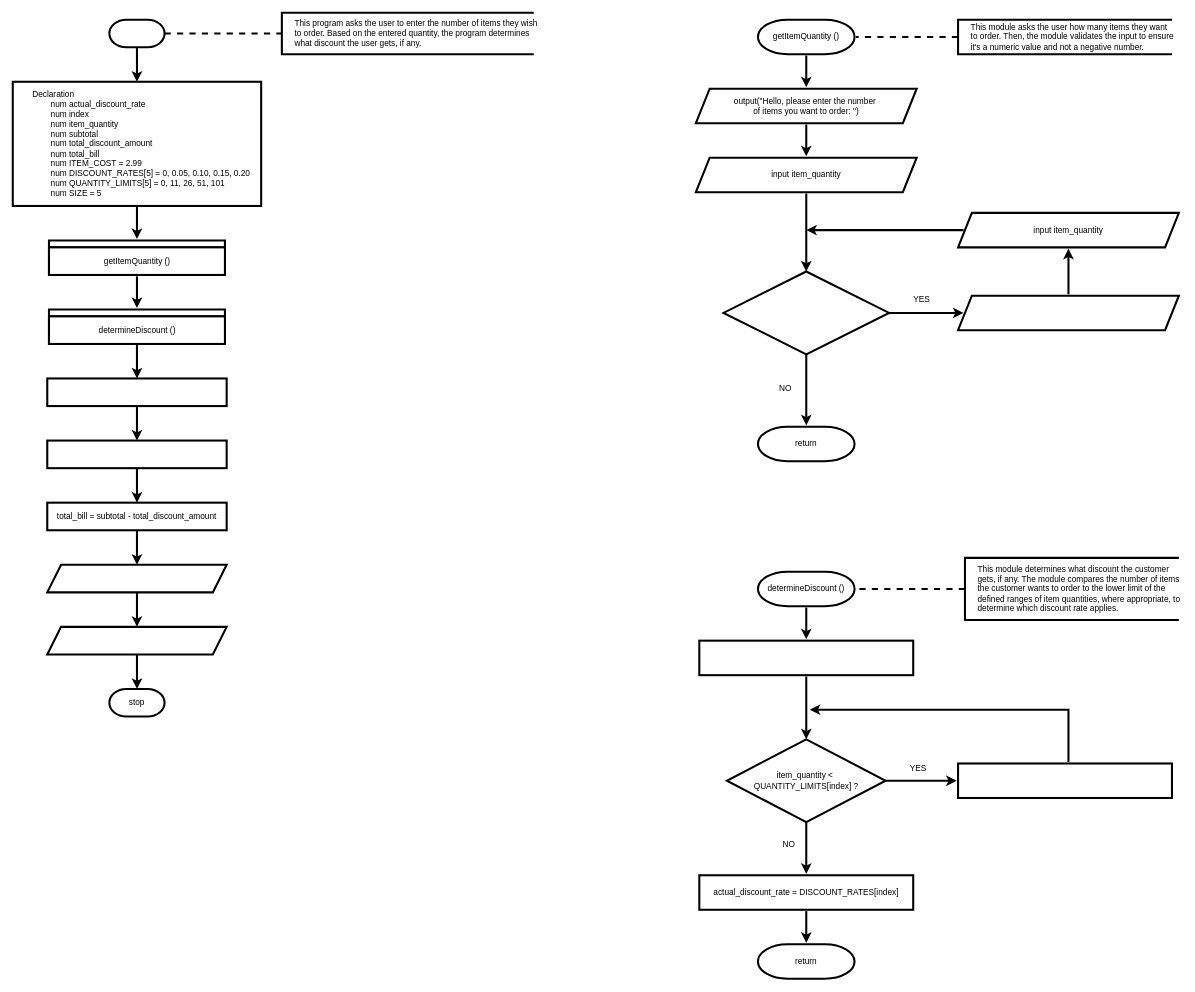
The diagram is 1195 pixels wide and 992 high, and some of its shapes have lost their labels. The box of each missing label's shape, as (x1, y1, x2, y2) in pixels:
(NOT isNumeric(item_quantity)) OR (item_quantity < 0) ?: (722, 270, 890, 355)
index = index - 1: (957, 762, 1173, 799)
index = SIZE - 1: (698, 639, 914, 676)
output("Invalid entry. Please enter the number of items you want to order: "): (957, 294, 1180, 331)
output("The final bill after applying the discount is: ", total_bill): (46, 625, 227, 655)
output("The total discount amount is: ", total_discount_amount): (46, 563, 227, 593)
start: (108, 18, 165, 48)
subtotal = item_quantity * ITEM_COST: (46, 377, 227, 407)
total_discount_amount = subtotal * actual_discount_rate: (46, 439, 227, 469)
